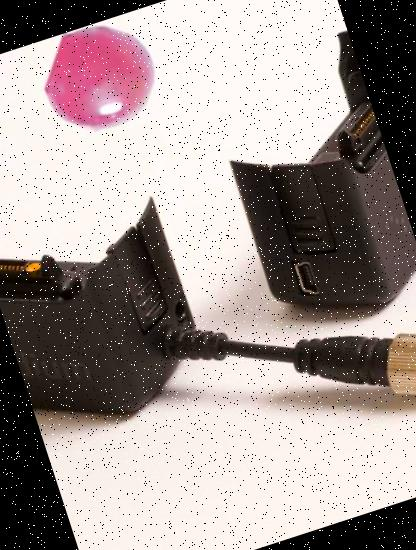Redcurrant: (33, 10, 170, 146)
